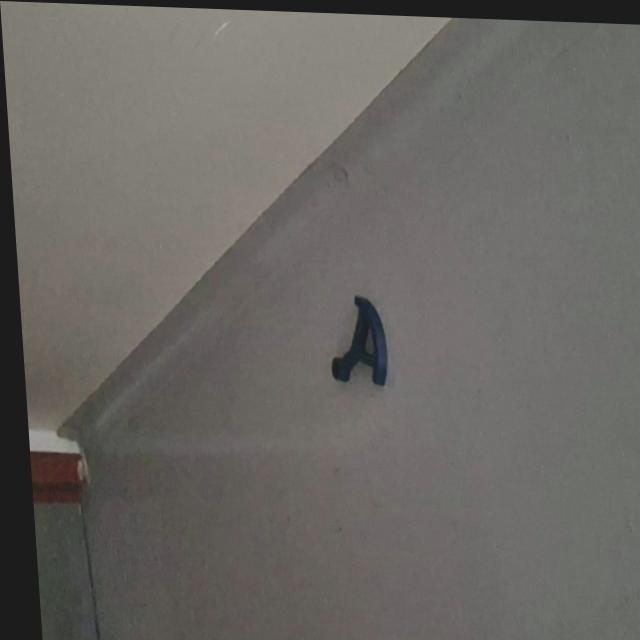haptic: (325, 292, 390, 388)
